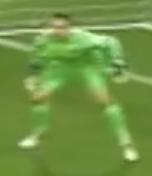goalkeeper: (12, 2, 146, 168)
